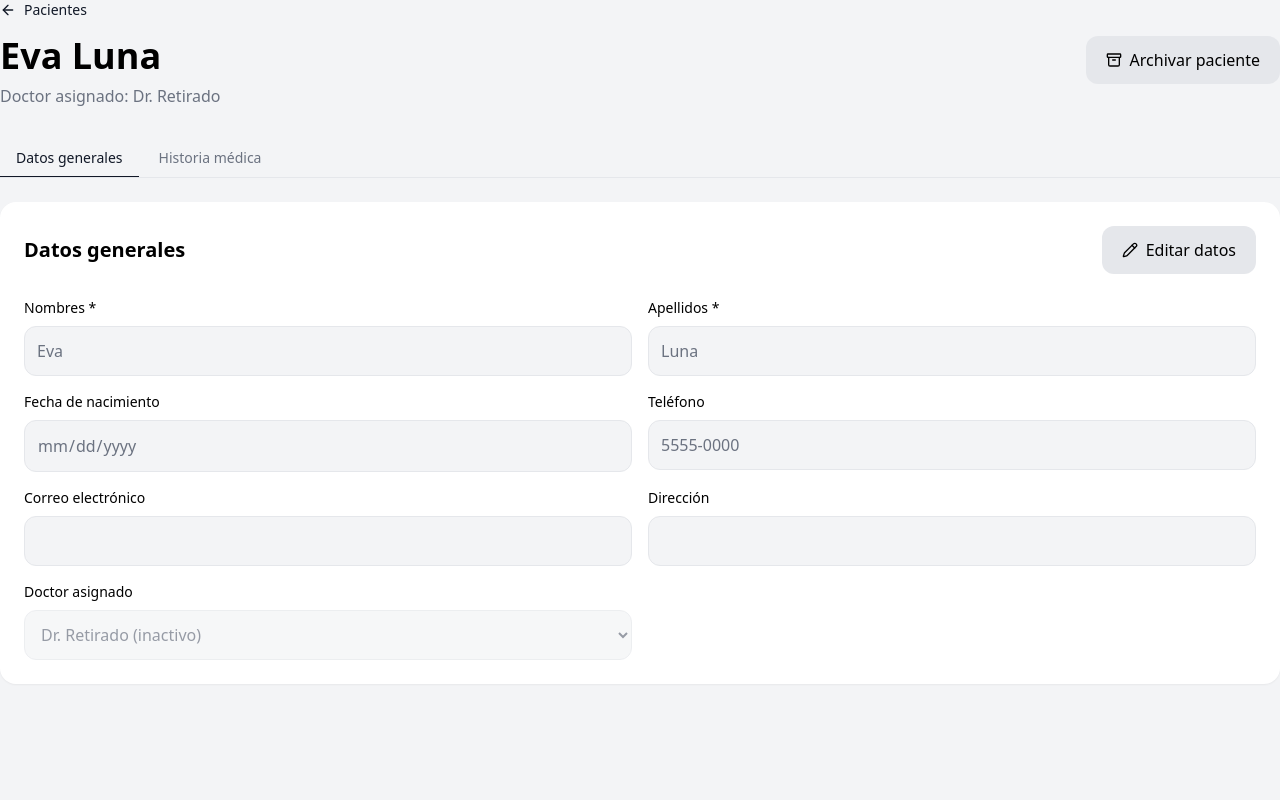
Test: PatientDetailPage › archiva con confirmación y la ficha queda en solo lectura
The width and height of the screenshot is (1280, 800).
Check: the heading "Eva Luna" is shown, box [0,31,161,80]
Click the button "Archivar paciente".
click(1183, 60)  # box [1086,36,1279,84]
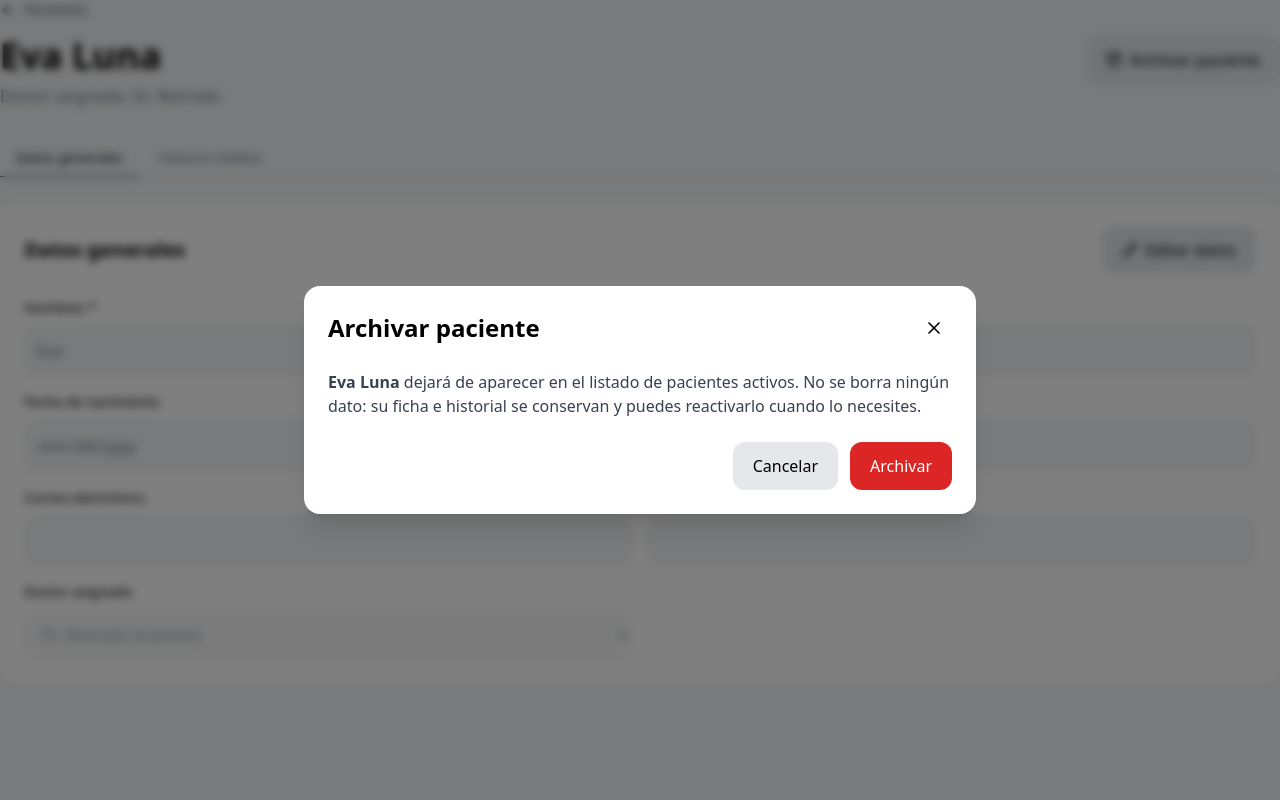
Check: the text "no se borra ningún dato" is shown, box [328,371,949,417]
Click the button "Archivar".
click(901, 466)  # box [850,442,952,490]
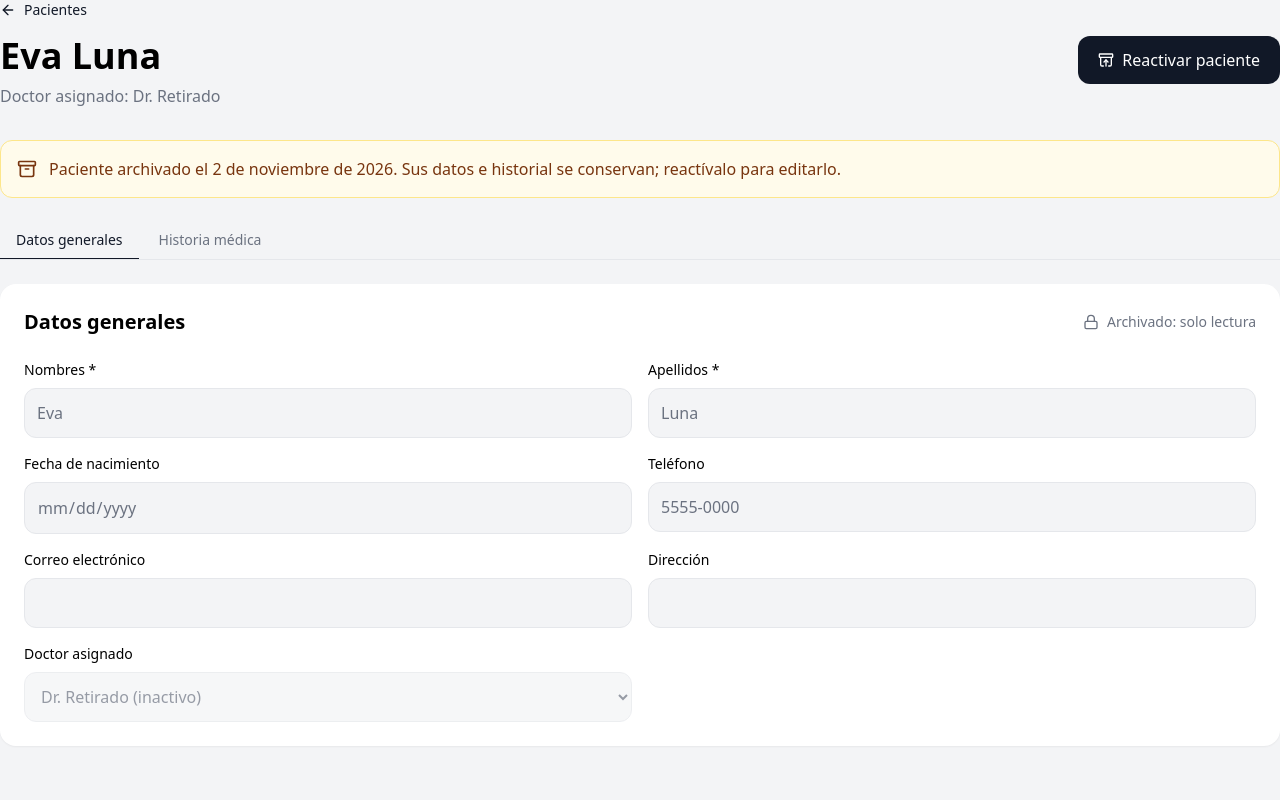
Check: the message shows "Paciente archivado el", box [49,158,208,180]
Check: the button "Editar datos" is gone
Check: the button "Reactivar paciente" is shown, box [1078,36,1279,84]
